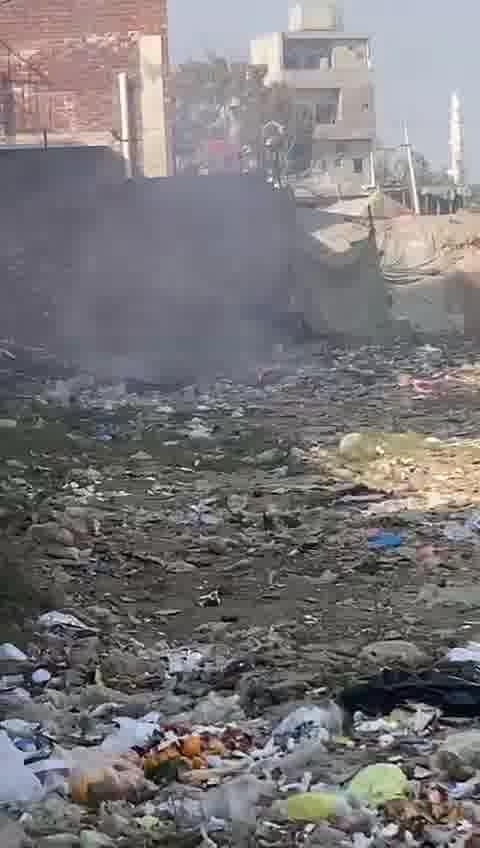garbage: (0, 350, 480, 848)
